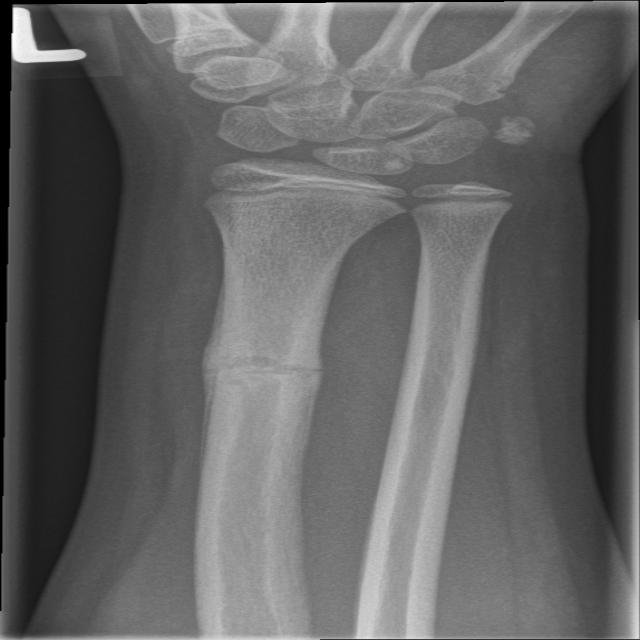radius fracture: (172, 280, 369, 478)
